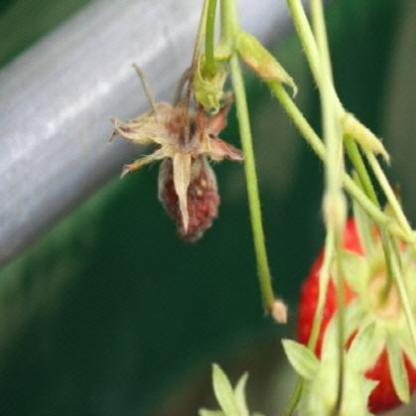Strawberry_Gray_Mold: (108, 64, 246, 244)
